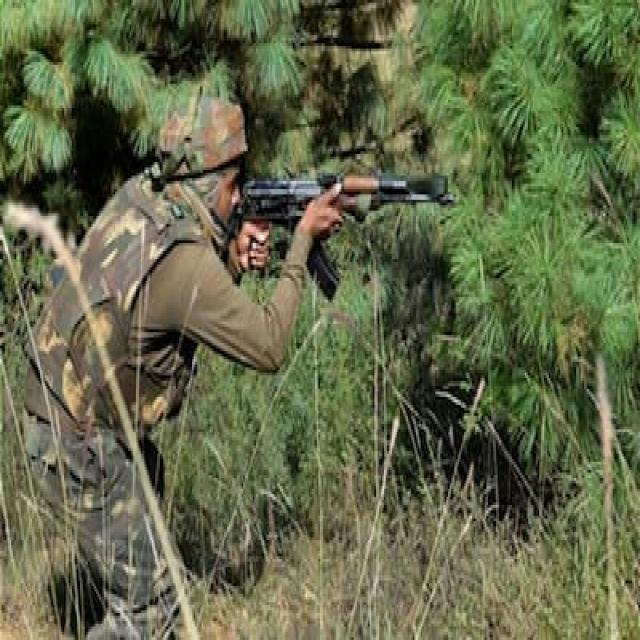Forest: (0, 0, 640, 640)
Militant: (16, 81, 338, 640)
